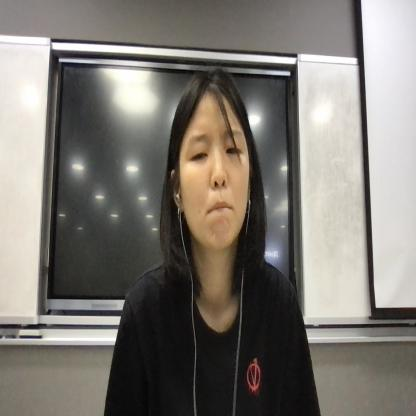sad: (175, 123, 256, 253)
